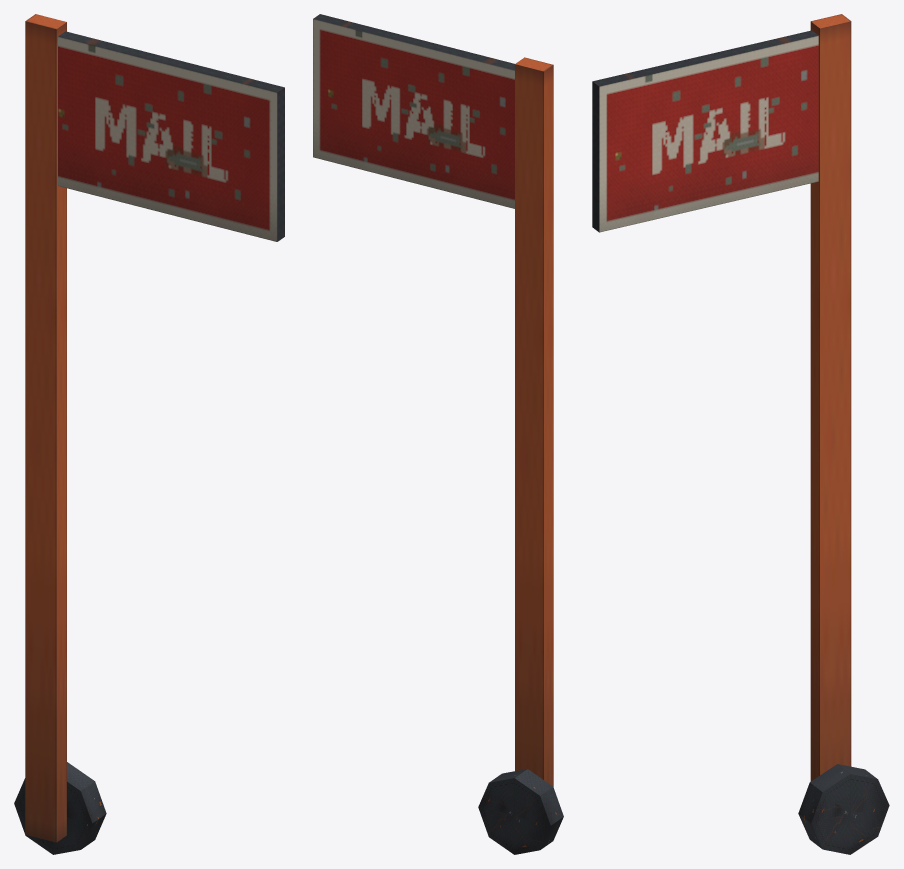
Rendered from SignalBeaconFlag.fbx.
3 views of the same model, side by side, from view 1: azimuth 30°, elevation 25°; view 2: azimuth 210°, elevation 25°; view 3: azimuth 270°, elevation 25° (orthographic). The views are drawn at different scales.
Visible parts, largest first — view 1: SignalBeaconFlag; view 2: SignalBeaconFlag; view 3: SignalBeaconFlag.
Boxes of the visible parts, x1,y1,x2,y2 form: SignalBeaconFlag: (14, 14, 284, 854); SignalBeaconFlag: (313, 14, 563, 854); SignalBeaconFlag: (592, 14, 889, 854).
Size of the model in its own units: 0.1708 by 1.01 by 0.3322.
